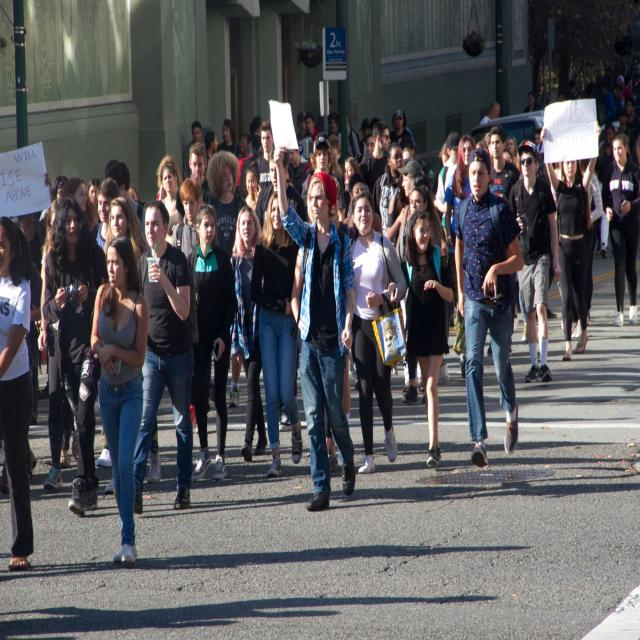body: (2, 451, 640, 635), (2, 95, 533, 262), (271, 141, 359, 516), (111, 196, 201, 516), (534, 3, 640, 270), (450, 146, 528, 470), (39, 194, 112, 520), (86, 233, 152, 570), (386, 207, 457, 471), (102, 195, 162, 495), (348, 190, 408, 476), (248, 187, 306, 481), (182, 201, 240, 484), (539, 119, 605, 364), (254, 148, 310, 432), (504, 138, 564, 386), (0, 211, 39, 577), (36, 197, 82, 492), (59, 177, 99, 468), (229, 203, 269, 464), (15, 171, 53, 425), (397, 185, 442, 397), (89, 176, 120, 469), (442, 133, 478, 380), (600, 130, 640, 328), (484, 278, 557, 372), (94, 158, 150, 257), (204, 150, 250, 260), (371, 141, 409, 249), (172, 177, 219, 260), (300, 136, 342, 222), (176, 142, 218, 217), (435, 130, 462, 241), (487, 123, 521, 205), (598, 121, 616, 259), (359, 120, 391, 195), (343, 179, 383, 237), (341, 154, 372, 221), (181, 119, 207, 185), (254, 120, 276, 192), (155, 154, 183, 202), (287, 137, 309, 198), (388, 108, 416, 150), (396, 159, 425, 199), (216, 117, 241, 159), (244, 159, 262, 211), (237, 132, 254, 186), (478, 101, 501, 125), (303, 111, 319, 142), (522, 90, 539, 113)
